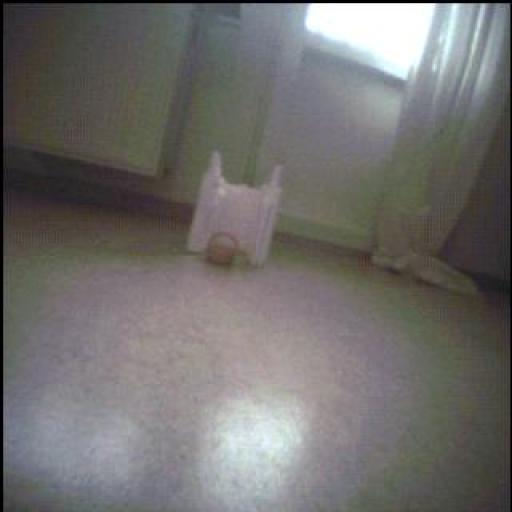Basket: (208, 233, 240, 267)
